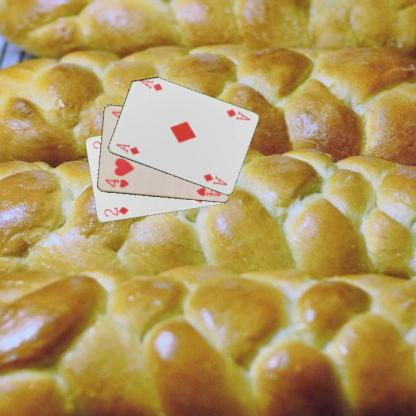2d: (101, 204, 130, 218)
4h: (102, 176, 130, 189)
Ad: (224, 106, 251, 122), (114, 141, 140, 157)
